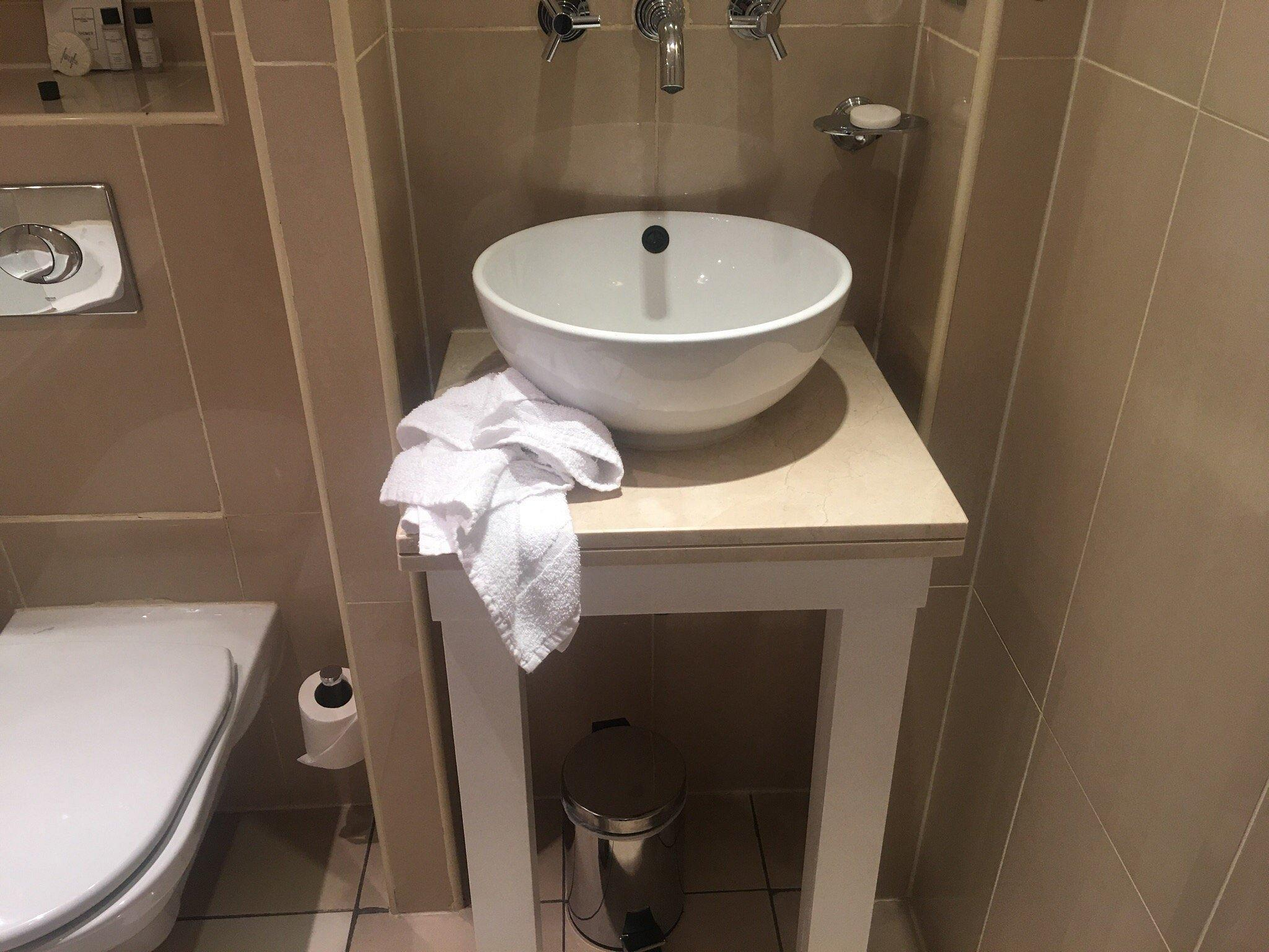disorganized_towel: (415, 386, 620, 659)
messy_sink: (398, 0, 993, 663)
